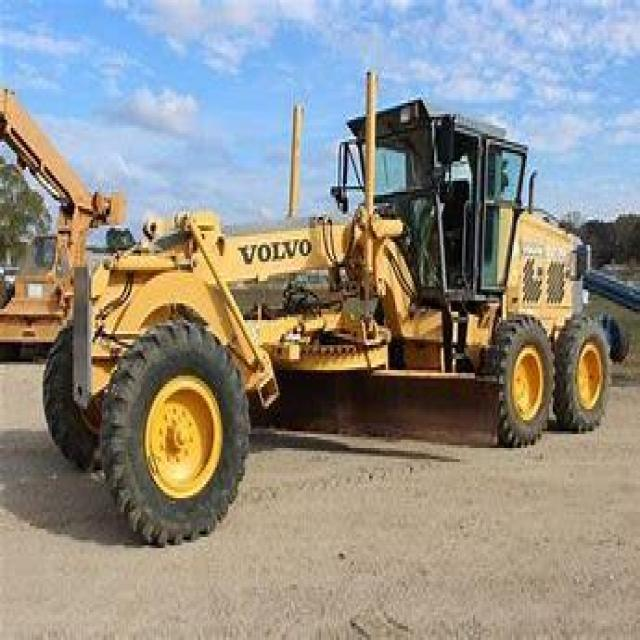buldozerpayloadergrader: (35, 78, 620, 545)
